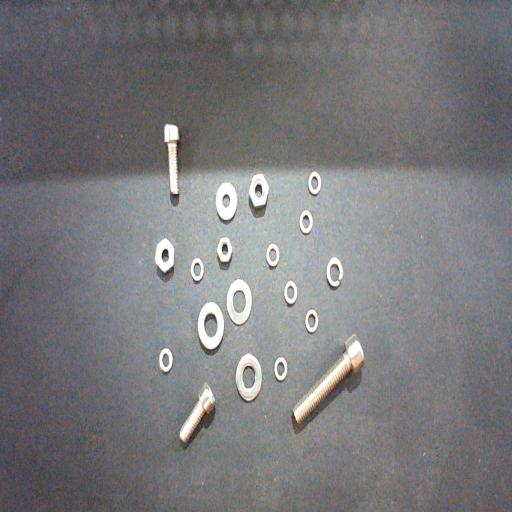nut: (249, 174, 269, 209), (155, 238, 174, 274), (217, 236, 233, 263)
screw: (292, 333, 364, 425), (178, 383, 216, 443), (164, 124, 179, 195)
washer: (198, 302, 224, 350), (236, 353, 262, 401), (226, 279, 252, 325), (216, 182, 237, 220), (326, 257, 343, 286), (159, 348, 173, 373), (190, 257, 204, 282), (308, 171, 322, 195), (266, 243, 279, 267), (284, 280, 297, 304), (274, 357, 287, 381), (306, 308, 318, 333), (300, 210, 312, 234)
